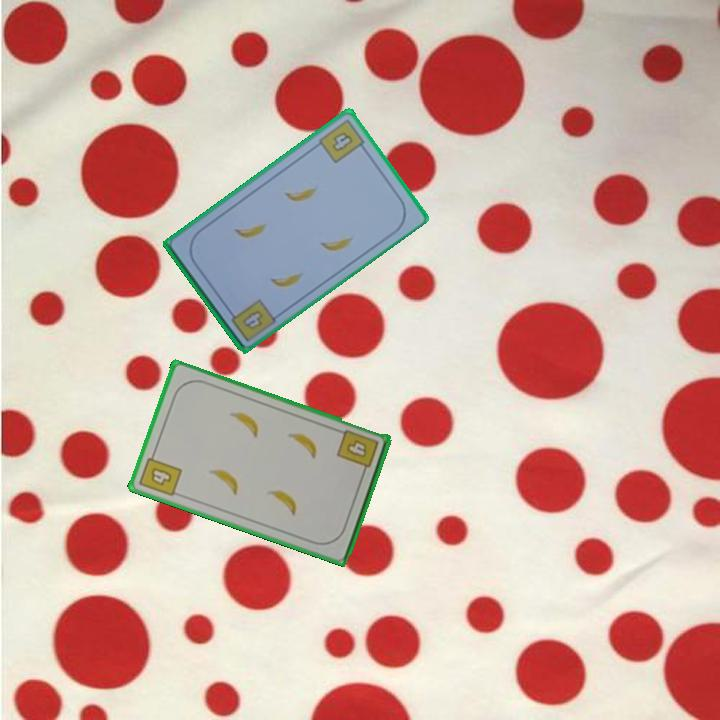4b: (315, 115, 370, 166), (136, 447, 185, 500), (333, 426, 381, 478), (238, 306, 266, 332)
